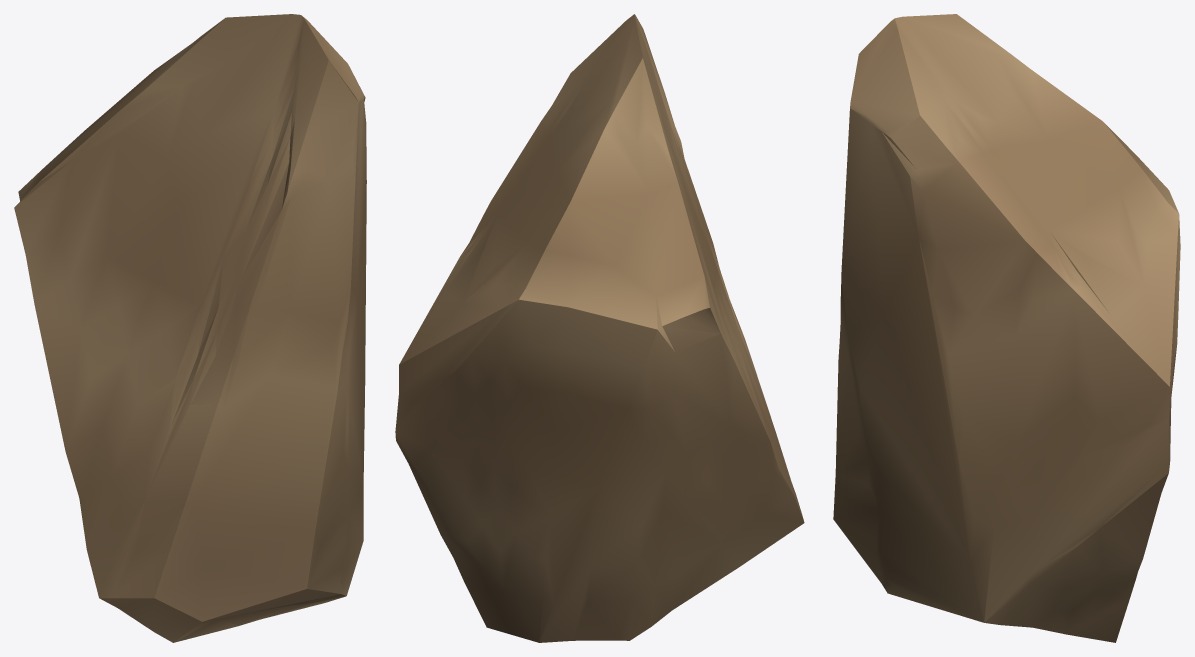
The model's file is rock.boulder_shard.sandstone.glb.
The picture shows the model from 3 angles, left to right: view 1: azimuth 30°, elevation 25°; view 2: azimuth 150°, elevation 25°; view 3: azimuth 270°, elevation 25°; orthographic projection. The views are drawn at different scales.
Visible parts, largest first — view 1: rock_boulder_shard_sandstone; view 2: rock_boulder_shard_sandstone; view 3: rock_boulder_shard_sandstone.
Boxes of the visible parts, <box> form: rock_boulder_shard_sandstone: <box>14,14,366,642</box>; rock_boulder_shard_sandstone: <box>395,14,804,642</box>; rock_boulder_shard_sandstone: <box>833,14,1180,642</box>.
Size of what is drawn, in the model's own units: 1.03 by 1.91 by 0.9937.
